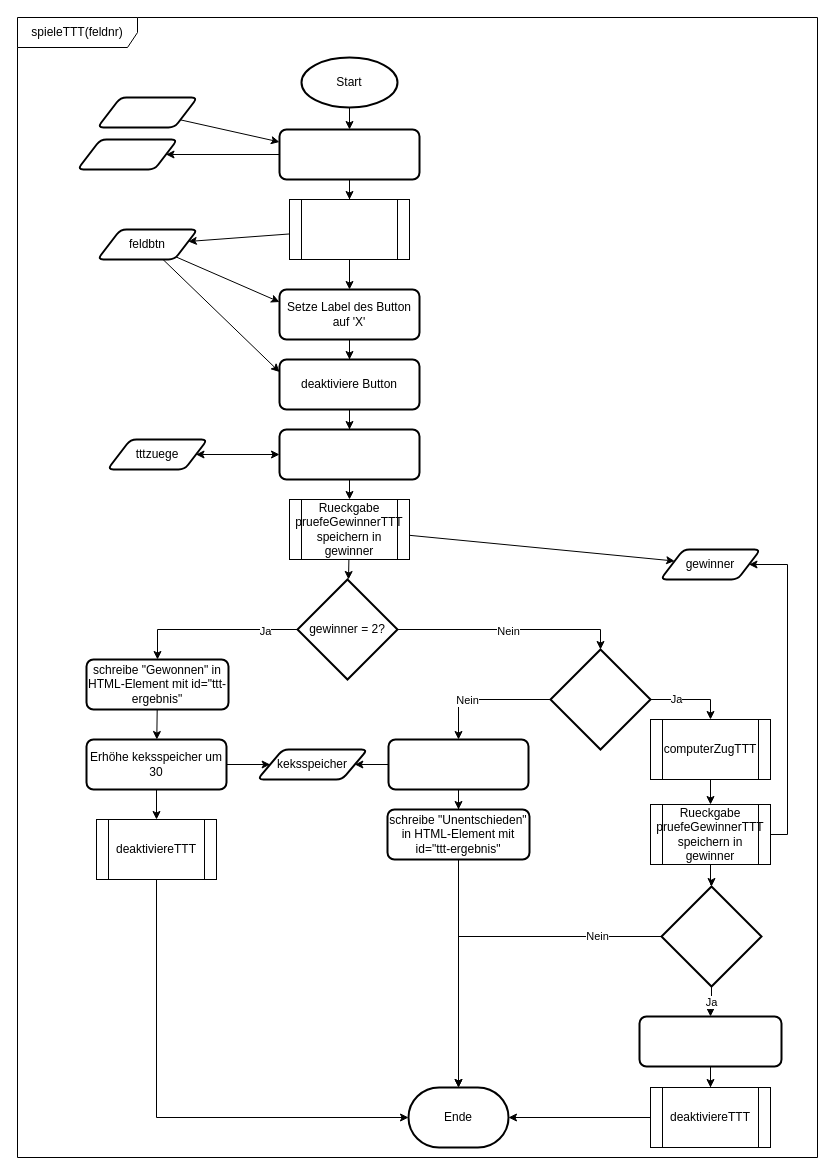
Some shapes in this 835 by 1175 pixel diagram are drawn without their labels. Here are the shapes that lost their labels. From the top down, the centre of each, then its label:
[147,112]: feldnr
[127,154]: tttboard [9]
[349,154]: Markiere Feld für Spieler tttboard[feldnr] = 2
[349,229]: hole HTML-Element (Objekt) des Button
[349,454]: inkrementiere tttzuege
[600,699]: tttzuege < 9?
[458,764]: inkrementiere keksspeicher
[711,936]: gewinner = 1?
[710,1041]: schreibe "Verloren" in HTML-Element mit id="ttt-ergebnis"
